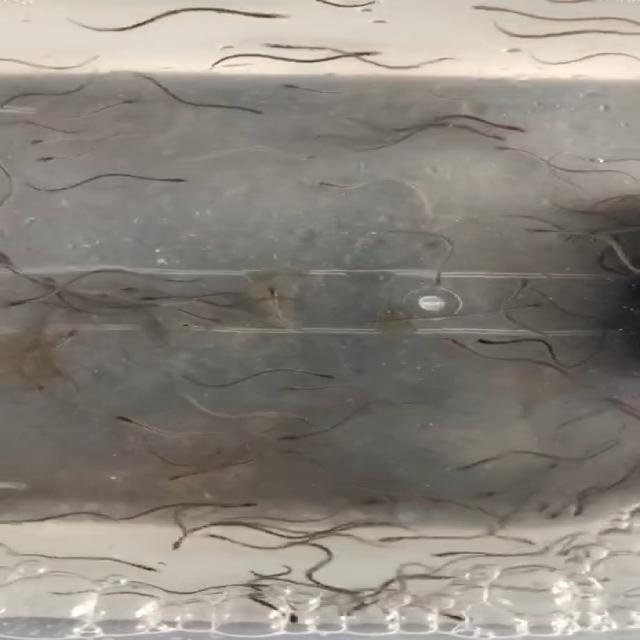active_glass_eel: (271, 408, 321, 426), (237, 4, 290, 20), (158, 466, 205, 484), (536, 504, 578, 524), (109, 412, 160, 428), (456, 2, 504, 18), (258, 282, 290, 306), (28, 150, 74, 166), (22, 376, 62, 394), (122, 557, 162, 575), (40, 276, 74, 297), (432, 545, 491, 557), (274, 380, 318, 396), (492, 123, 542, 137), (445, 334, 478, 354), (282, 148, 318, 166), (376, 533, 422, 547), (272, 610, 312, 626), (472, 130, 514, 145), (116, 281, 164, 294), (342, 44, 382, 59), (221, 500, 270, 512), (306, 176, 345, 191), (473, 336, 521, 348), (56, 325, 79, 350), (270, 78, 310, 92), (504, 532, 544, 546), (222, 40, 276, 50), (9, 294, 47, 308), (276, 432, 314, 446), (164, 529, 187, 552), (440, 462, 474, 477), (517, 297, 559, 309), (127, 295, 168, 307), (22, 136, 62, 148), (146, 175, 192, 185), (312, 368, 344, 382), (428, 266, 448, 288), (366, 496, 410, 506), (512, 274, 532, 294), (442, 611, 478, 622), (572, 497, 590, 519), (238, 105, 276, 115), (117, 94, 148, 106), (524, 224, 555, 236), (491, 144, 521, 155)
